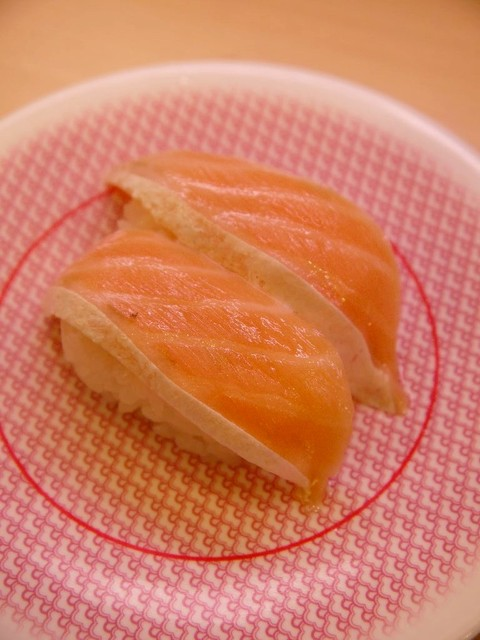salmon: (49, 243, 355, 506)
